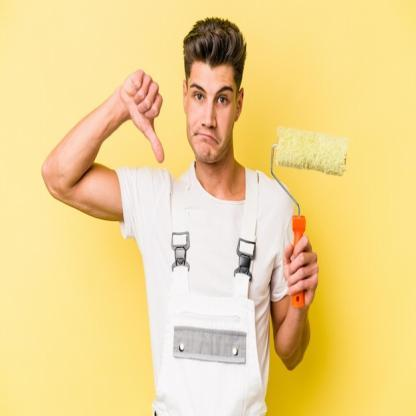thumb_down: (117, 64, 169, 166)
